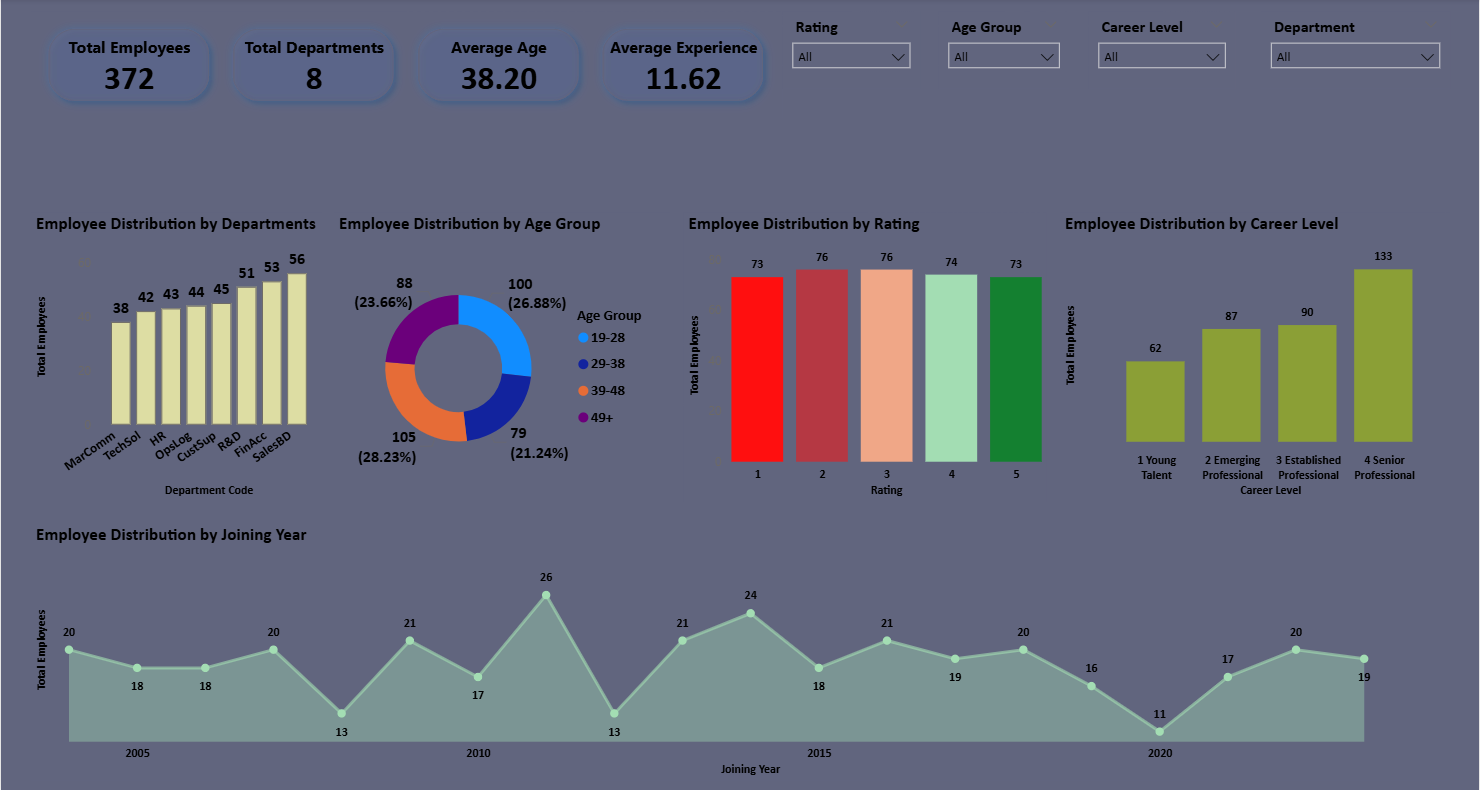

The page's visual inventory and layout, read from the dashboard file:
{"tool":"powerbi","page":{"name":"Headcount & Distribution Dashboard","canvas":[1480,800],"ordinal":0},"visuals":[{"type":"cardVisual","fields":{"Data":["Employee Details.Total Employees","Count(Employee Details.Department)","Employee Details.Average Age","Employee Details.Average Experience"]},"box":[29.8,14,752.8,106.8],"z":0},{"type":"slicer","fields":{"Values":["Employee Details.Department"]},"box":[1262.3,14,189.1,77],"z":1000},{"type":"clusteredColumnChart","title":"Employee Distribution by Departments","fields":{"Category":["Employee Details.Department Code"],"Y":["Employee Details.Total Employees"]},"box":[30,214.8,291.4,289.9],"z":2000},{"type":"donutChart","title":"Employee Distribution by Age Group","fields":{"Category":["Employee Details.Age Group"],"Y":["Employee Details.Total Employees"]},"box":[333.4,214.8,336.4,289.9],"z":3000},{"type":"slicer","fields":{"Values":["Employee Details.Age Group"]},"box":[938.4,14,131.3,77],"z":4000},{"type":"areaChart","title":"Employee Distribution by Joining Year","fields":{"Category":["Employee Details.Joining Year"],"Y":["Employee Details.Total Employees"]},"box":[30,525.7,1420.8,258.3],"z":5000},{"type":"clusteredColumnChart","title":"Employee Distribution by Rating","fields":{"Category":["Employee Details.Department","Employee Details.Rating"],"Y":["Employee Details.Total Employees"]},"box":[683.4,214.8,363.5,289.9],"z":6000},{"type":"clusteredColumnChart","title":"Employee Distribution by Career Level","fields":{"Category":["Employee Details.Career Level Hierarchy","Employee Details.Career Level"],"Y":["Employee Details.Total Employees"]},"box":[1060.3,214.8,390.5,289.9],"z":7000},{"type":"slicer","fields":{"Values":["Employee Details.Career Level"]},"box":[1089,14,147.1,77],"z":8000},{"type":"slicer","fields":{"Values":["Employee Details.Rating"]},"box":[782.6,14,138.3,77],"z":9000}]}

Visuals, with their boxes in screenshot pixels (x1, y1, x2, y2), scaled from the page's 1480x800 canvas onto the 1480x790 screenshot:
cardVisual - Employee Details.Total Employees x Count(Employee Details.Department): 30/14/783/119
slicer - Employee Details.Department: 1262/14/1451/90
"Employee Distribution by Departments" clusteredColumnChart: 30/212/321/498
"Employee Distribution by Age Group" donutChart: 333/212/670/498
slicer - Employee Details.Age Group: 938/14/1070/90
"Employee Distribution by Joining Year" areaChart: 30/519/1451/774
"Employee Distribution by Rating" clusteredColumnChart: 683/212/1047/498
"Employee Distribution by Career Level" clusteredColumnChart: 1060/212/1451/498
slicer - Employee Details.Career Level: 1089/14/1236/90
slicer - Employee Details.Rating: 783/14/921/90
